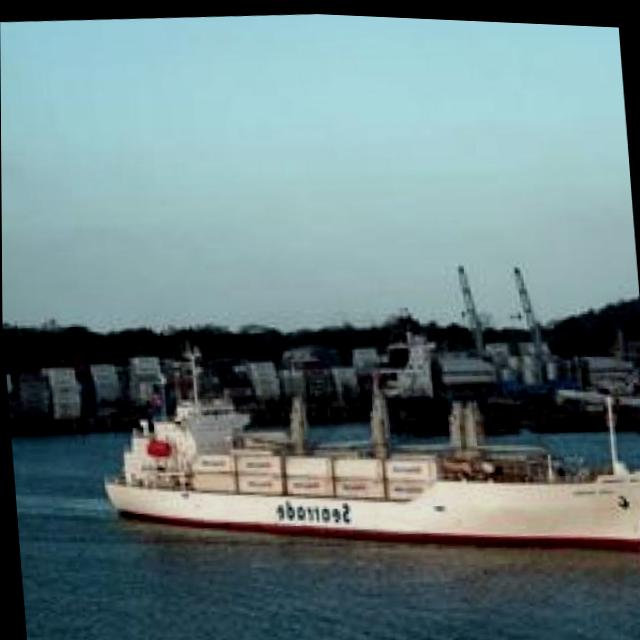ship2: (104, 350, 640, 545)
